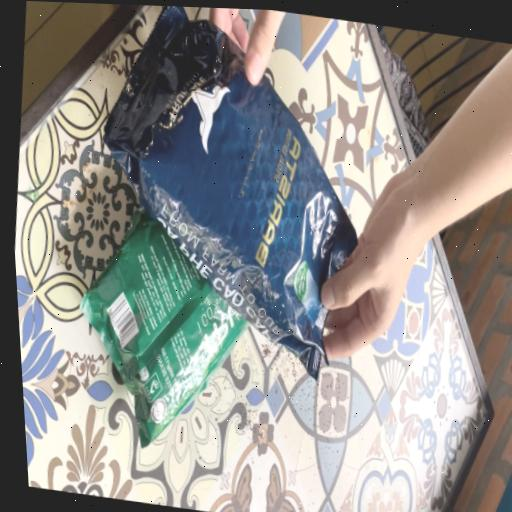cafe_hat: (104, 6, 356, 379)
cafe_xay: (80, 212, 247, 448)
